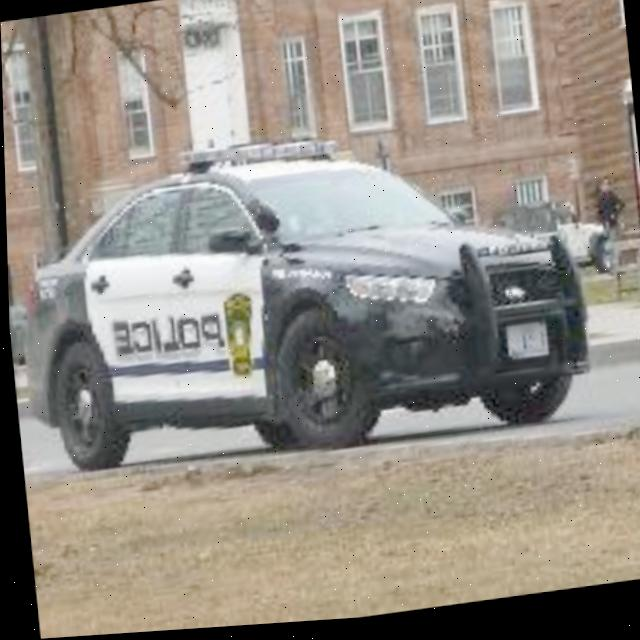emergency: (7, 104, 582, 487)
